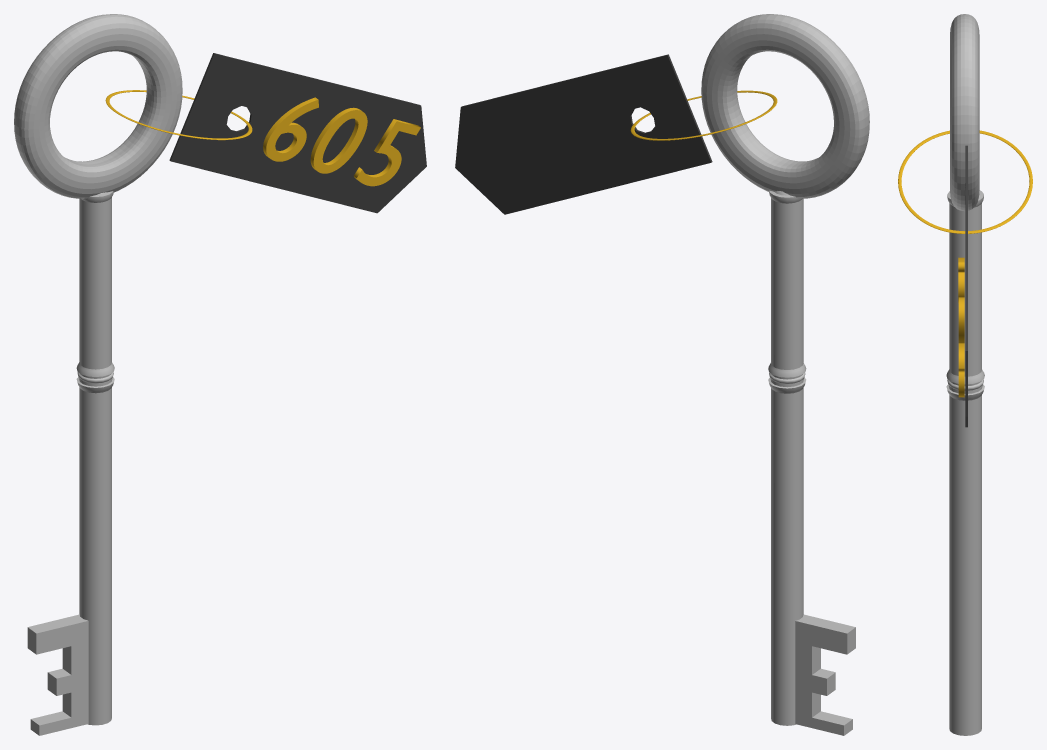
The model's file is key605.fbx.
3 renders of one model, left to right at view 1: azimuth 30°, elevation 25°; view 2: azimuth 150°, elevation 25°; view 3: azimuth 270°, elevation 25°, orthographic.
Visible parts, largest first — view 1: key605; view 2: key605; view 3: key605.
Part boxes in pixels (x1,y1,x2,y2): key605: [14, 14, 426, 735]; key605: [455, 14, 869, 735]; key605: [898, 14, 1032, 735].
Bounding box in the file's own units: 8.68 × 14.18 × 2.45.
